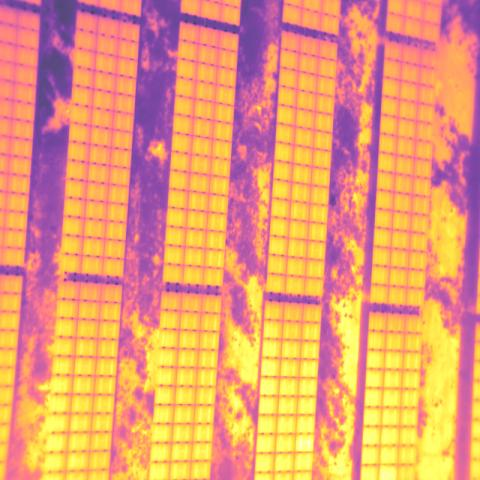fault: (295, 434, 313, 453)
